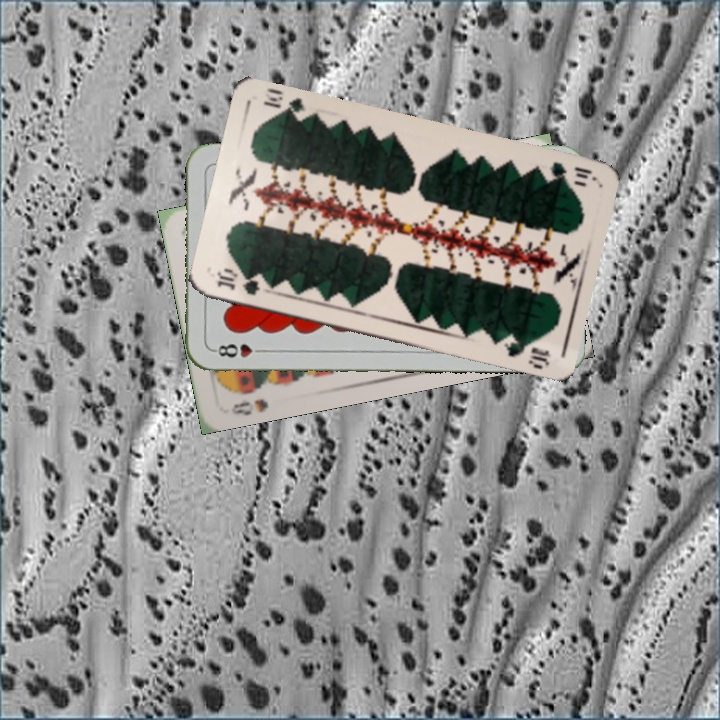G10: (213, 267, 262, 298), (545, 158, 595, 186)
H8: (210, 340, 269, 360)
S8: (227, 395, 271, 418)
